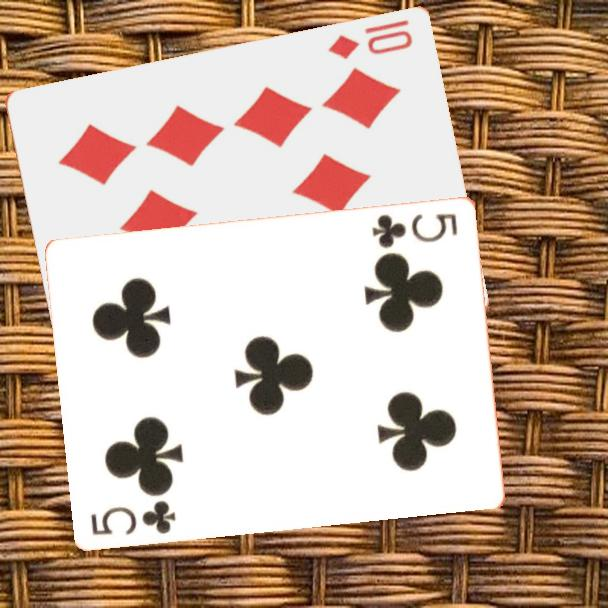c05: (87, 496, 179, 538), (369, 209, 461, 250)
d10: (324, 17, 415, 63)
